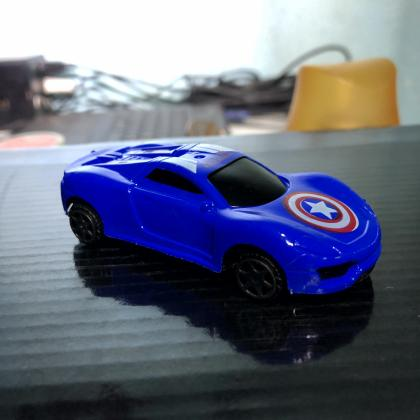Car: (60, 144, 382, 302)
